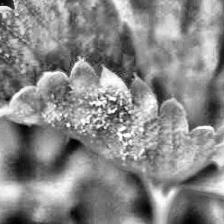Powdery Mildew Leaf: (0, 0, 224, 189)
